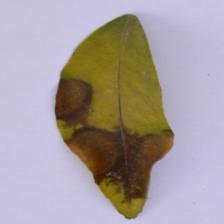black spot: (32, 80, 188, 199)
